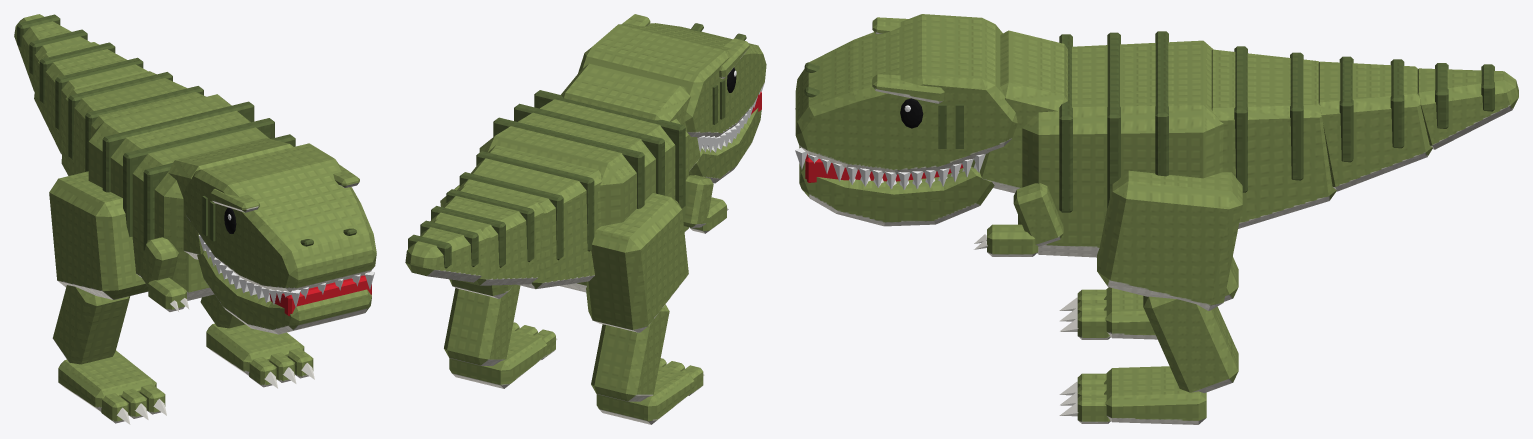
The model's file is trex_blocs_vert.glb.
3 views of the same model, side by side, from view 1: azimuth 30°, elevation 25°; view 2: azimuth 150°, elevation 25°; view 3: azimuth 270°, elevation 25° (orthographic). The views are drawn at different scales.
Parts seen in each view (by area): view 1: TRex; view 2: TRex; view 3: TRex.
Part boxes in pixels (x1,y1,x2,y2): TRex: (14,14,376,424); TRex: (405,14,766,424); TRex: (795,14,1518,424).
Bounding box in the file's own units: 4.1 × 5.22 × 10.55.
Materials: 1 (1 with a texture image).
